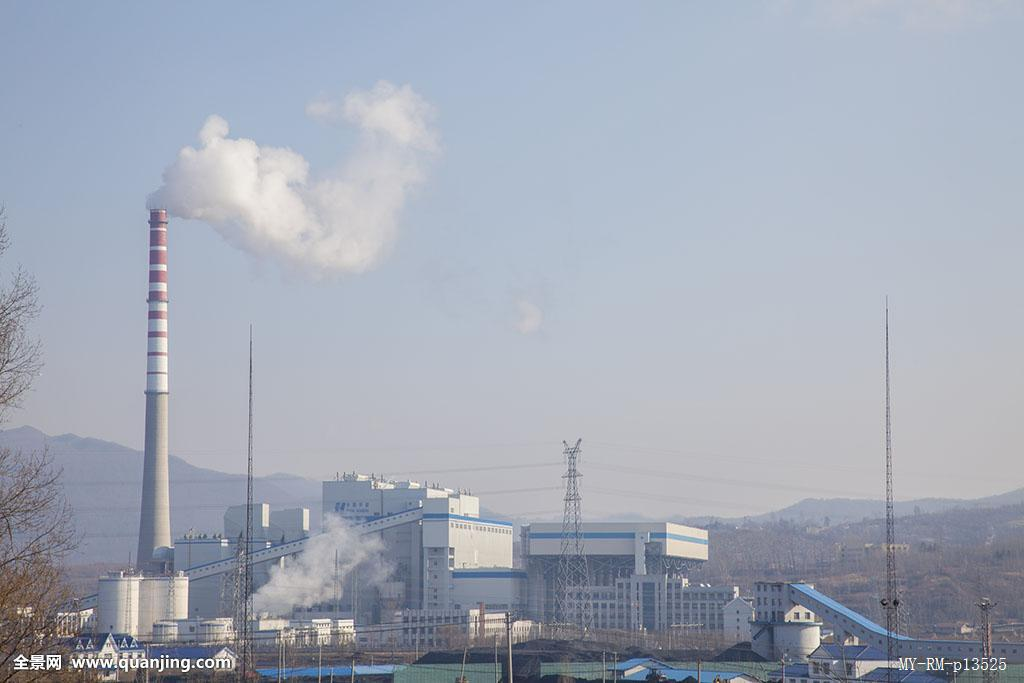dust: (129, 110, 330, 227)
